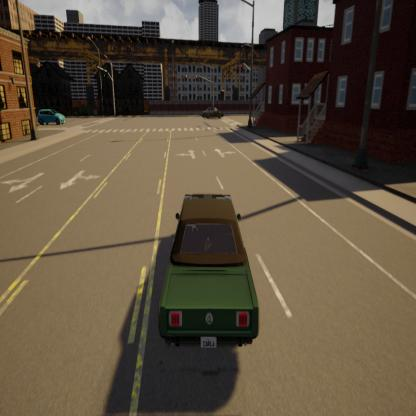Cars: (145, 185, 266, 357), (35, 102, 66, 127), (201, 99, 224, 118), (206, 108, 222, 122)
